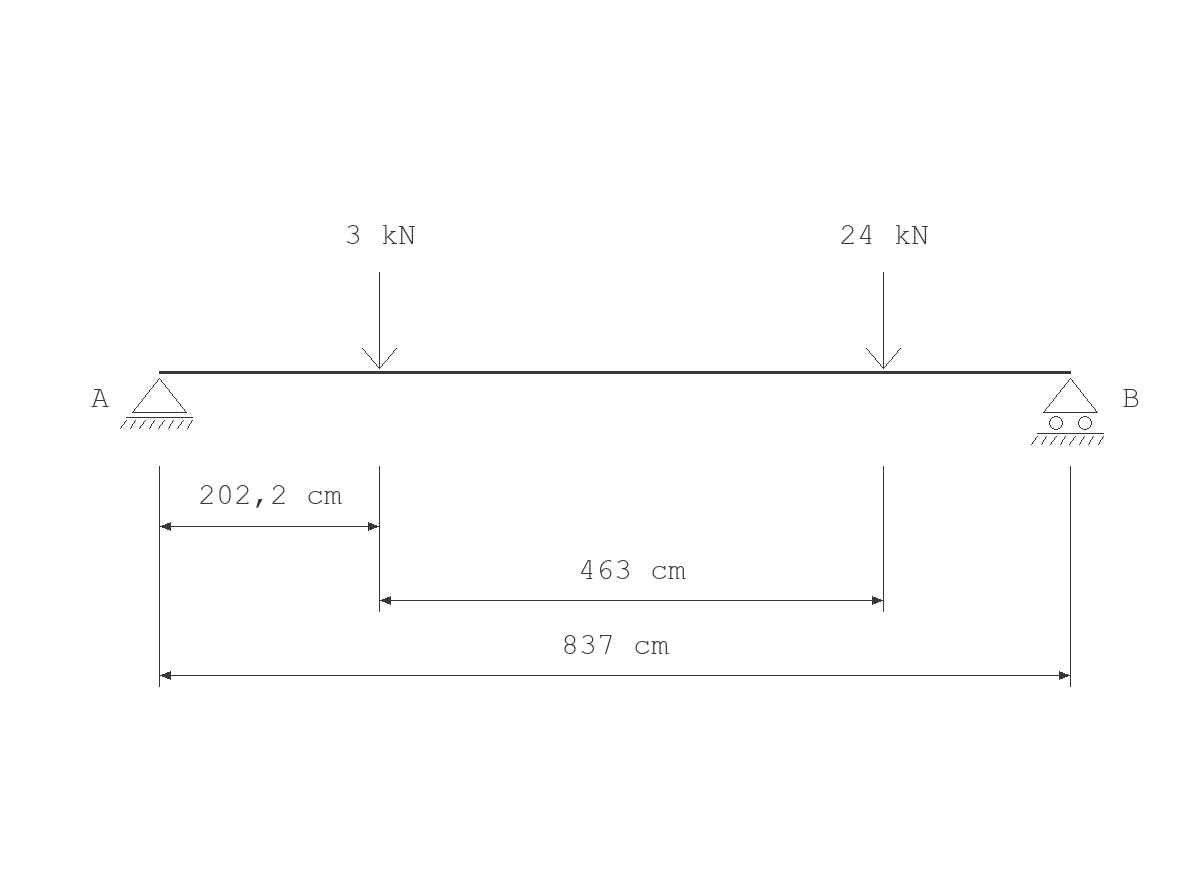pin_support: (120, 378, 193, 429)
point_load: (362, 272, 397, 369), (866, 272, 901, 369)
roller_support: (1031, 378, 1104, 445)
